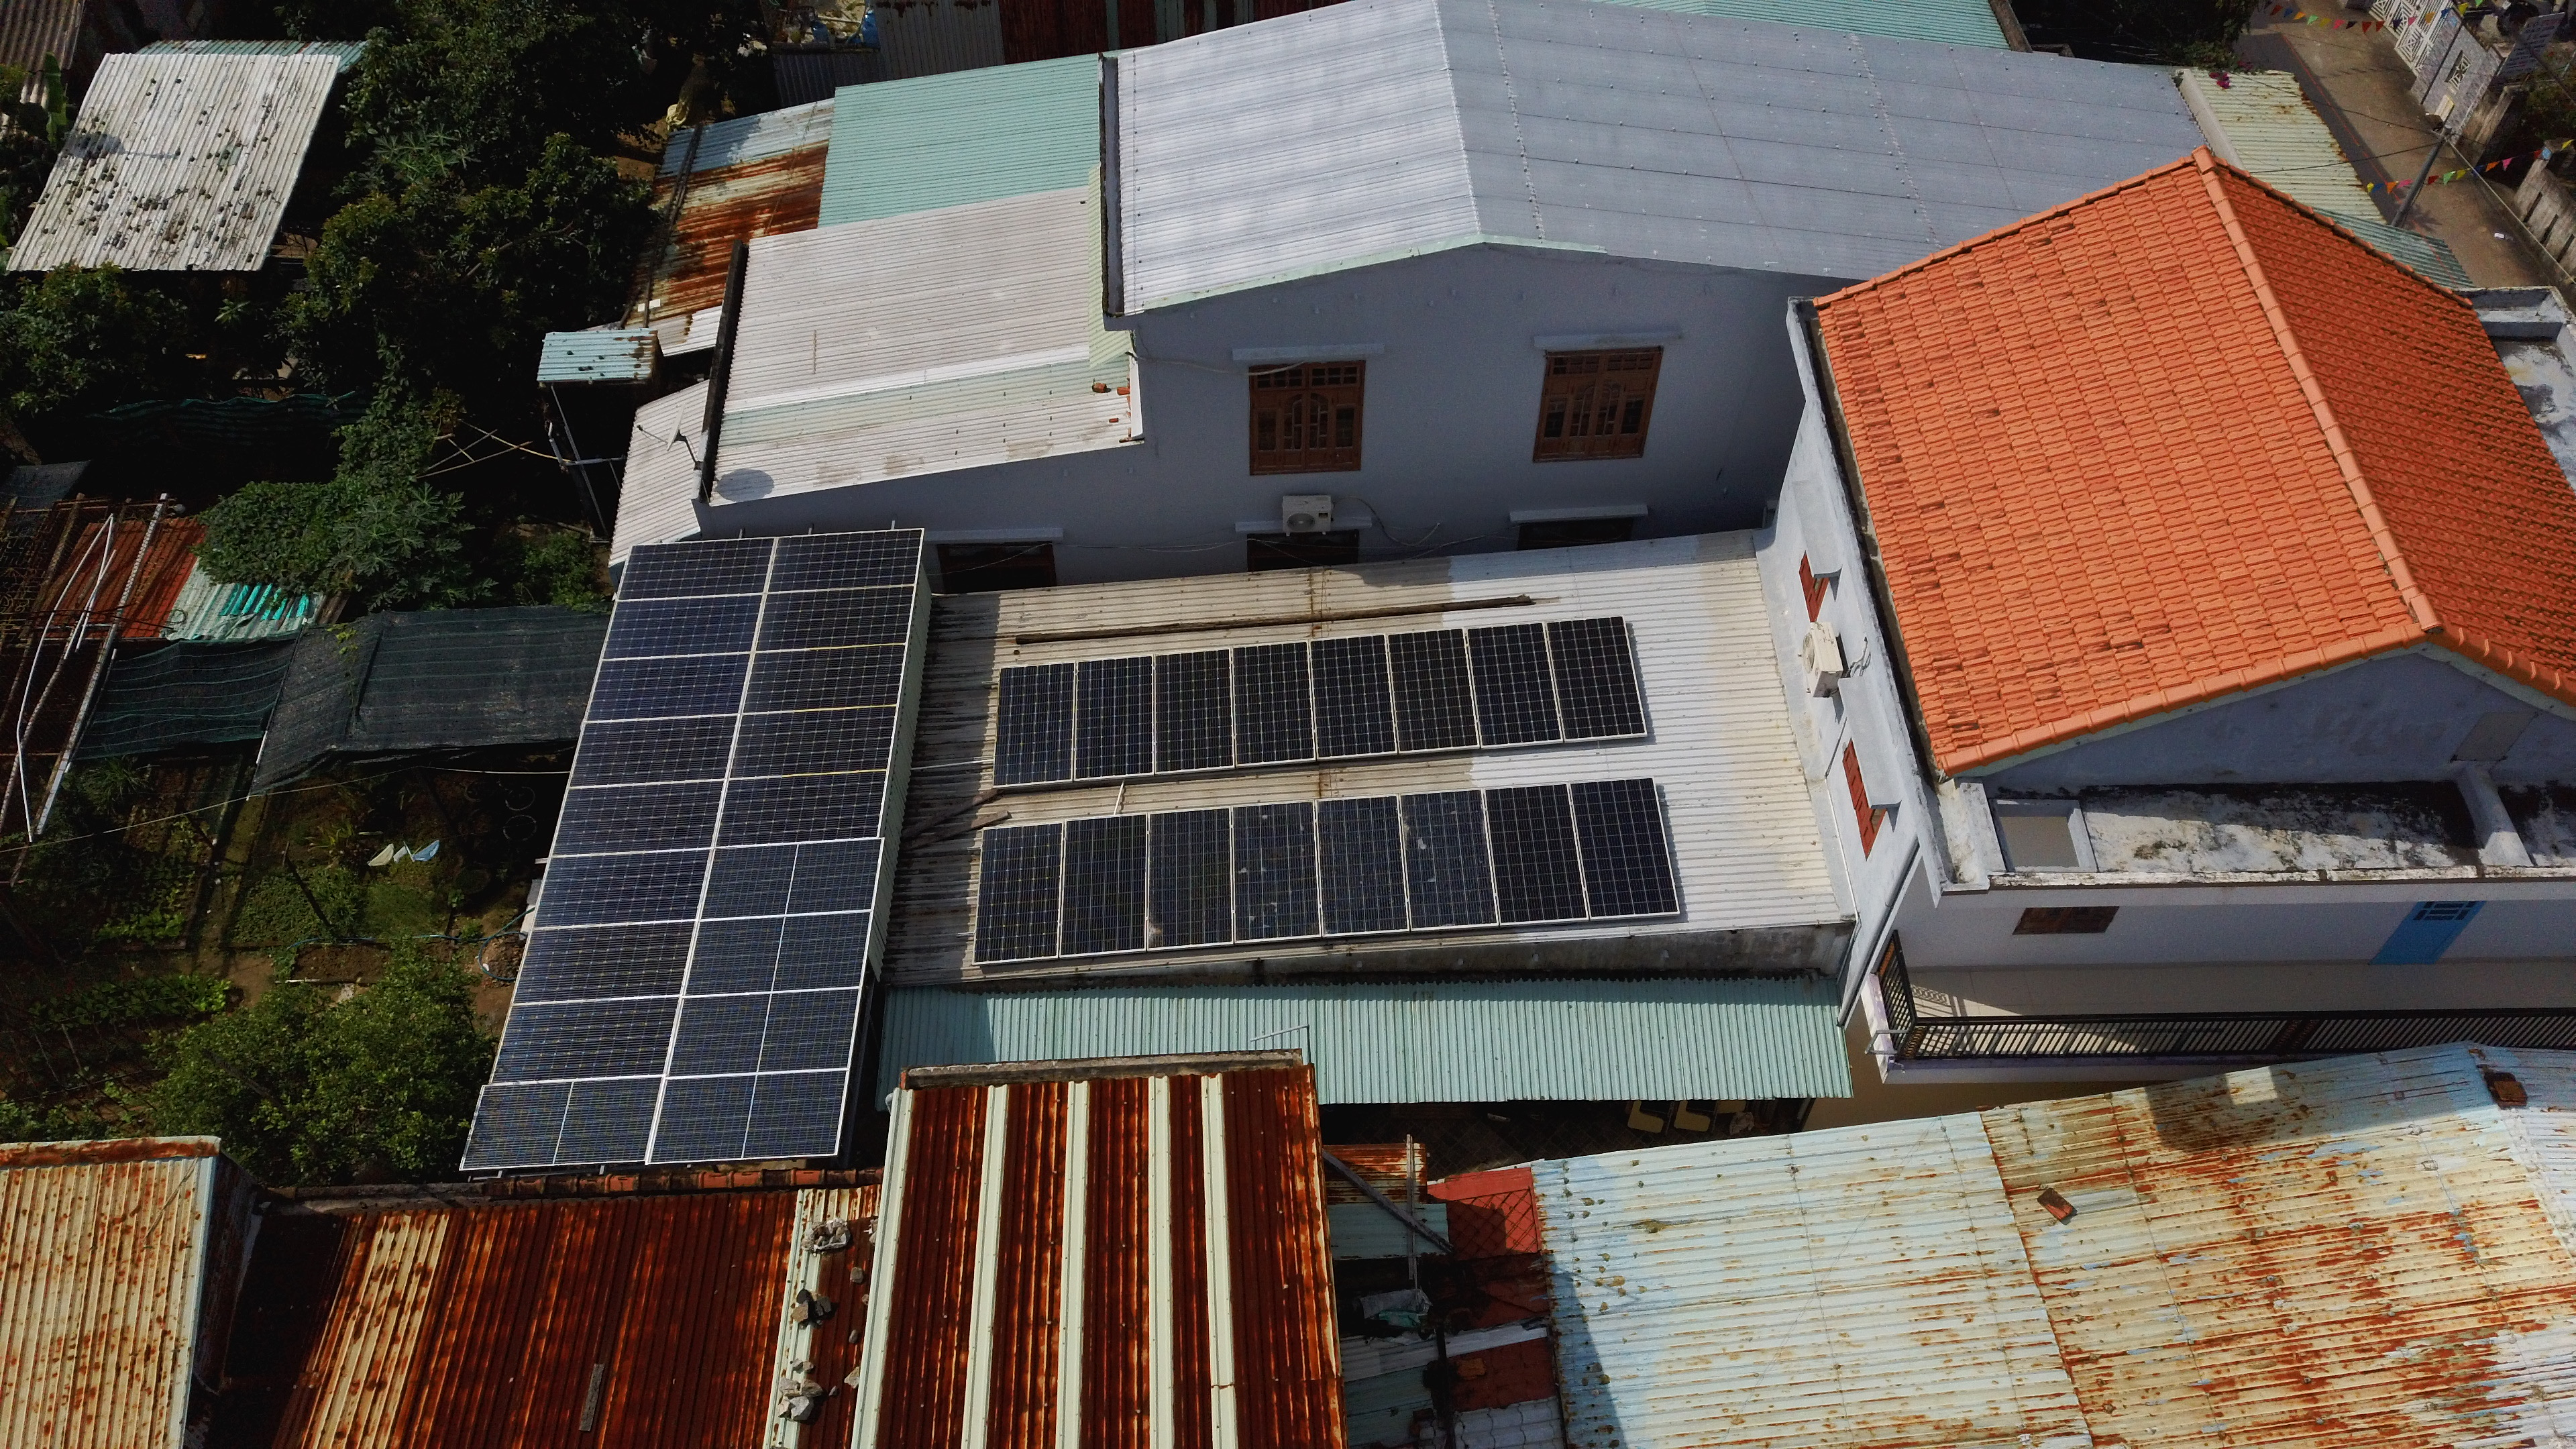solar: (648, 1072, 847, 1162), (460, 1077, 663, 1166), (665, 989, 858, 1077), (679, 911, 872, 998), (490, 998, 679, 1085), (1568, 777, 1679, 918), (1497, 786, 1606, 927), (699, 839, 881, 920), (533, 847, 713, 927), (517, 922, 695, 1001), (1146, 805, 1242, 950), (1399, 791, 1499, 931), (1315, 796, 1412, 938), (971, 821, 1065, 966), (1056, 812, 1150, 957), (1231, 801, 1327, 943), (1541, 616, 1647, 740), (552, 780, 724, 856), (715, 770, 886, 846), (1463, 623, 1564, 747), (1385, 628, 1484, 754), (727, 706, 897, 778), (571, 715, 741, 784), (1307, 635, 1401, 757), (741, 646, 908, 713), (755, 584, 920, 651), (586, 655, 752, 720), (1231, 642, 1316, 768), (602, 594, 766, 658), (991, 663, 1076, 786), (1154, 646, 1235, 773), (614, 538, 780, 600), (1072, 656, 1155, 780), (764, 531, 929, 593)
